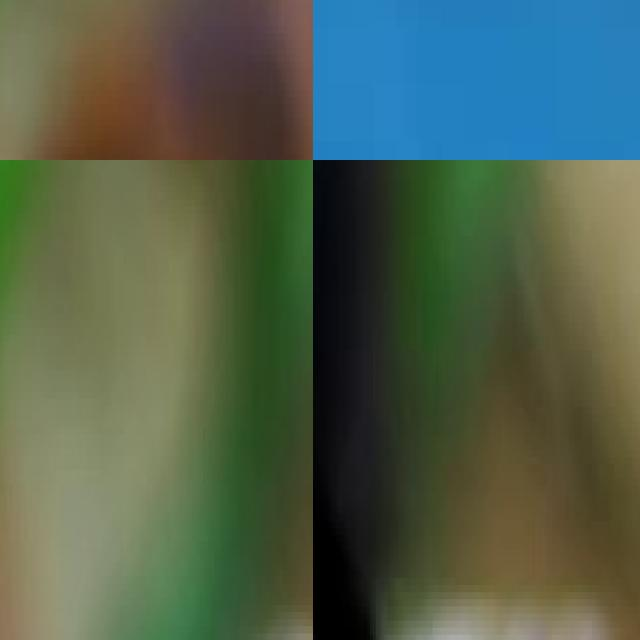fish: (183, 160, 313, 640), (0, 0, 313, 160)
